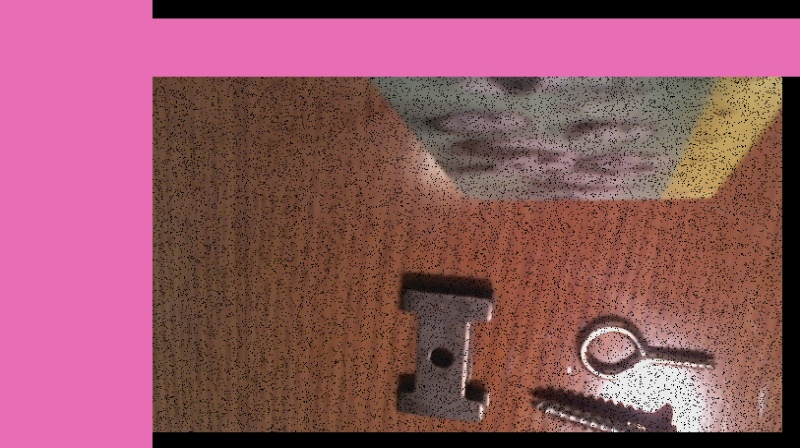O001: (572, 315, 722, 382)
O002: (389, 275, 500, 424)
S001: (523, 388, 685, 447)
